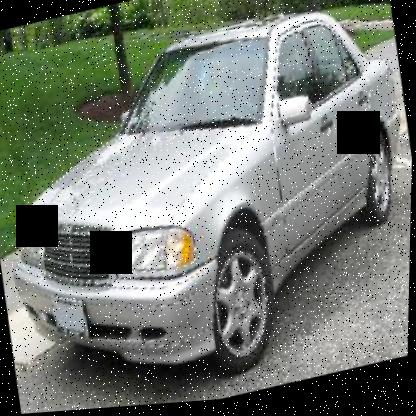not_emergency: (0, 0, 415, 398)
